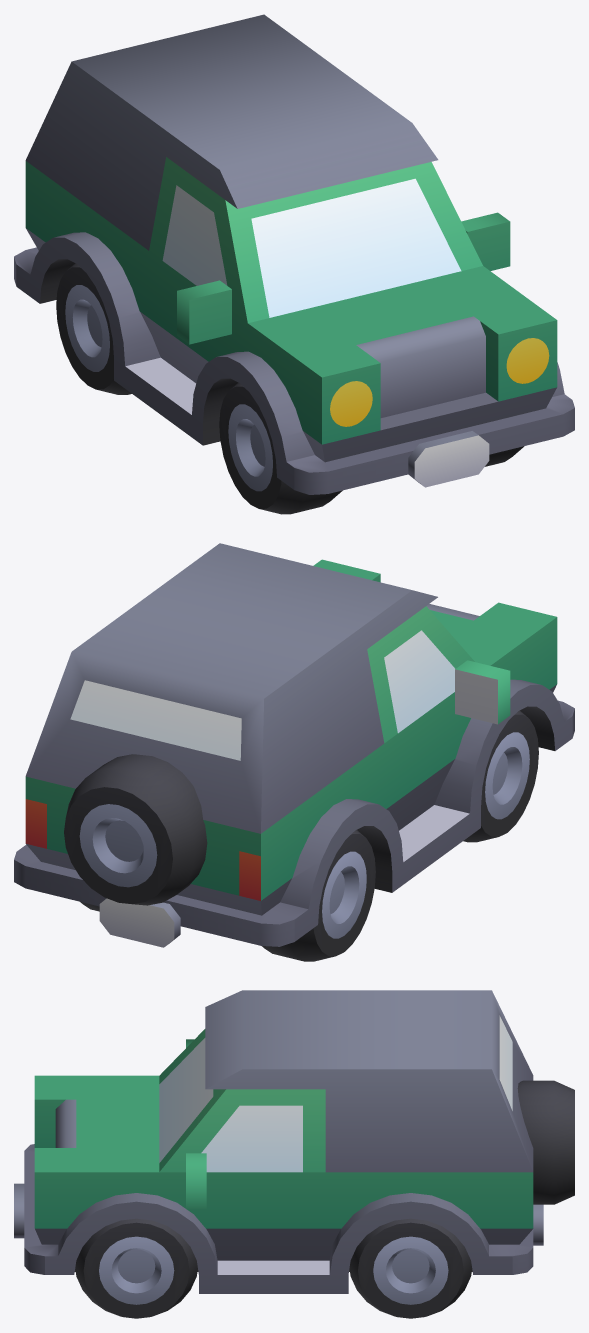
Rendered from suv.glb.
The picture shows the model from 3 angles, top to bottom: view 1: azimuth 30°, elevation 25°; view 2: azimuth 150°, elevation 25°; view 3: azimuth 270°, elevation 25°; orthographic projection. The views are drawn at different scales.
Visible parts, largest first — view 1: body, wheel-front-right, wheel-back-right; view 2: body, wheel-back, wheel-back-right, wheel-front-right; view 3: body, wheel-back-left, wheel-front-left, wheel-back.
Boxes of the visible parts, left/top/right/bottom form: body: left=14, top=14, right=574, bottom=494; wheel-front-right: left=219, top=382, right=342, bottom=514; wheel-back-right: left=56, top=263, right=131, bottom=394; body: left=14, top=543, right=574, bottom=947; wheel-back: left=64, top=754, right=207, bottom=905; wheel-back-right: left=262, top=830, right=375, bottom=961; wheel-front-right: left=463, top=710, right=538, bottom=842; body: left=14, top=990, right=543, bottom=1293; wheel-back-left: left=349, top=1218, right=472, bottom=1318; wheel-front-left: left=75, top=1218, right=197, bottom=1318; wheel-back: left=517, top=1080, right=574, bottom=1204.
Bounding box in the file's own units: 1.5 × 1.3 × 2.7.
Materials: 1 (1 with a texture image).
